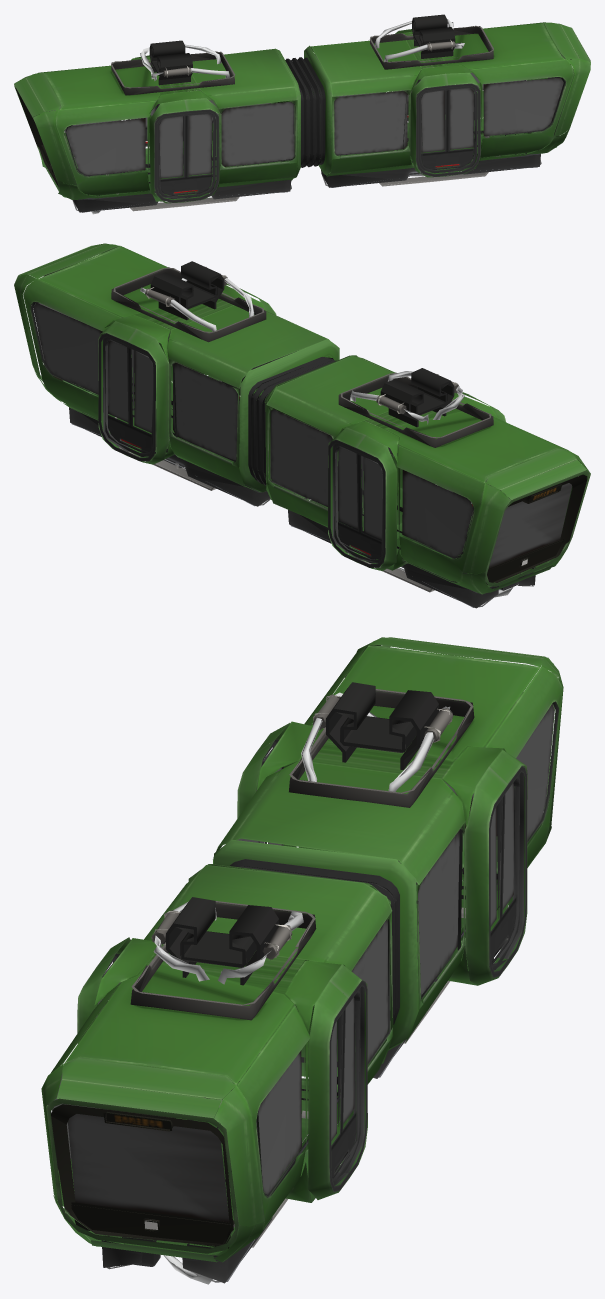
File: Monorail.gltf
3 renders of one model, top to bottom at view 1: azimuth 30°, elevation 25°; view 2: azimuth 150°, elevation 25°; view 3: azimuth 270°, elevation 25°, orthographic. The views are drawn at different scales.
Parts seen in each view (by area): view 1: SM_monorail__1_, SM_monorail, SM_monorail_connector; view 2: SM_monorail__1_, SM_monorail, SM_monorail_connector; view 3: SM_monorail, SM_monorail__1_, SM_monorail_connector.
Part boxes in pixels (box(x1,y1,x2,y2)): SM_monorail__1_: box(14, 40, 300, 214); SM_monorail: box(304, 14, 590, 187); SM_monorail_connector: box(285, 57, 325, 167); SM_monorail__1_: box(265, 355, 590, 608); SM_monorail: box(14, 243, 339, 506); SM_monorail_connector: box(248, 357, 336, 493); SM_monorail: box(41, 864, 393, 1284); SM_monorail__1_: box(213, 637, 563, 1078); SM_monorail_connector: box(230, 859, 399, 1066).
Size of the model in its own units: 19.92 by 5.95 by 9.1.
